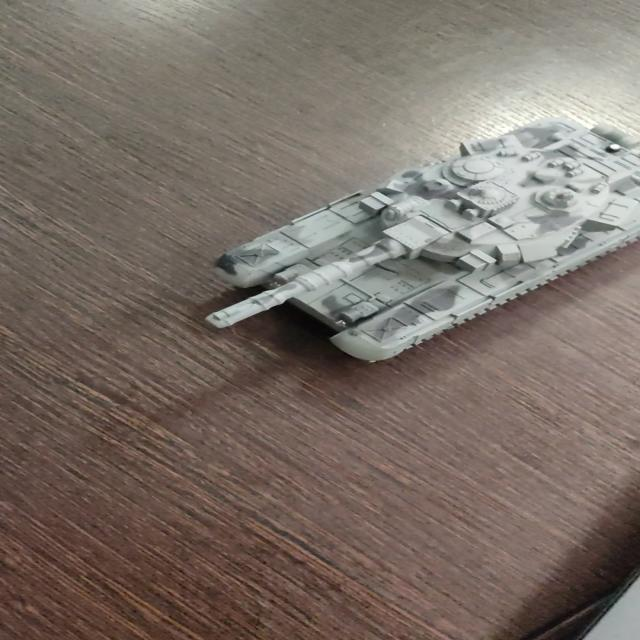tank: (205, 114, 640, 364)
